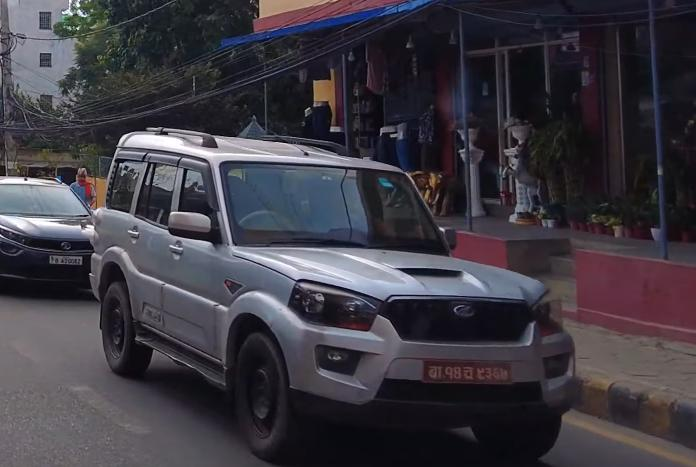SUV: (86, 119, 584, 467)
car: (0, 173, 111, 289)
